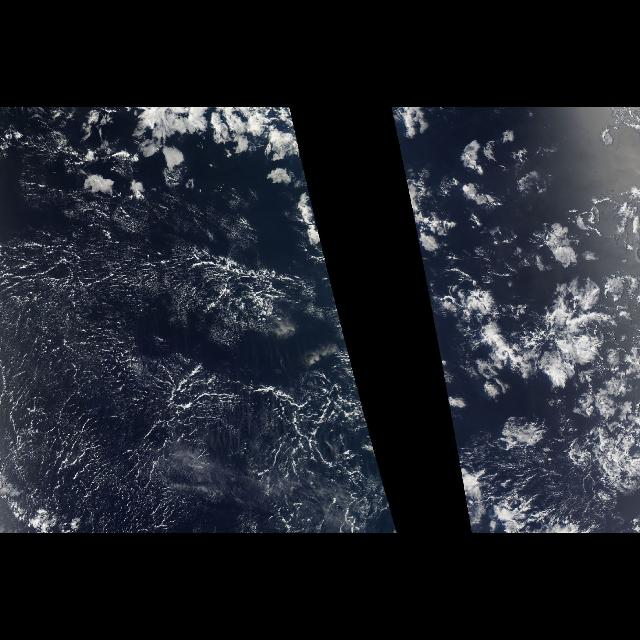Flower: (419, 134, 635, 476), (110, 120, 306, 206)
Sugar: (0, 213, 382, 533)
